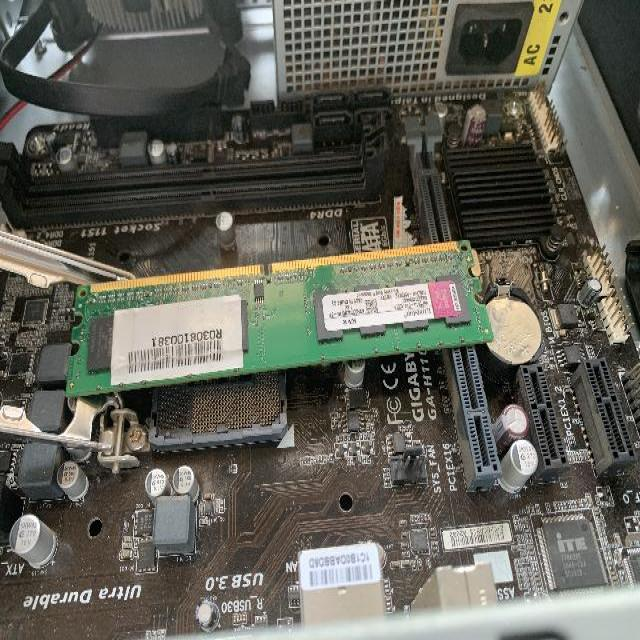CPU_Fan: (1, 0, 246, 68)
Mainboard: (4, 90, 640, 640)
PSU: (269, 0, 602, 97)
RAM: (63, 236, 496, 397)
